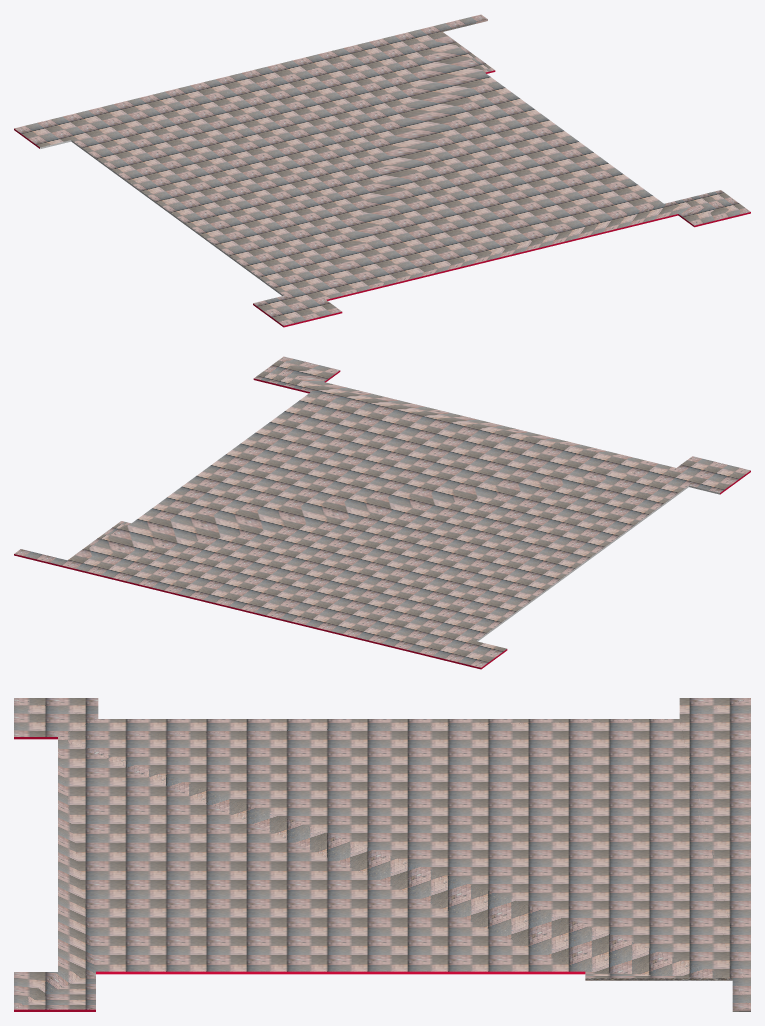
File: pisoParque.glb
The picture shows the model from 3 angles, top to bottom: view 1: azimuth 30°, elevation 25°; view 2: azimuth 150°, elevation 25°; view 3: azimuth 270°, elevation 25°; orthographic projection. The views are drawn at different scales.
Visible parts, largest first — view 1: PisoParque.001; view 2: PisoParque.001; view 3: PisoParque.001.
Boxes of the visible parts, x1=… form: PisoParque.001: x1=14, y1=14, x2=750, y2=327; PisoParque.001: x1=14, y1=356, x2=750, y2=669; PisoParque.001: x1=14, y1=698, x2=750, y2=1011.
Bounding box in the file's own units: 60 × 0.2014 × 60.
2 materials, 1 textured.
